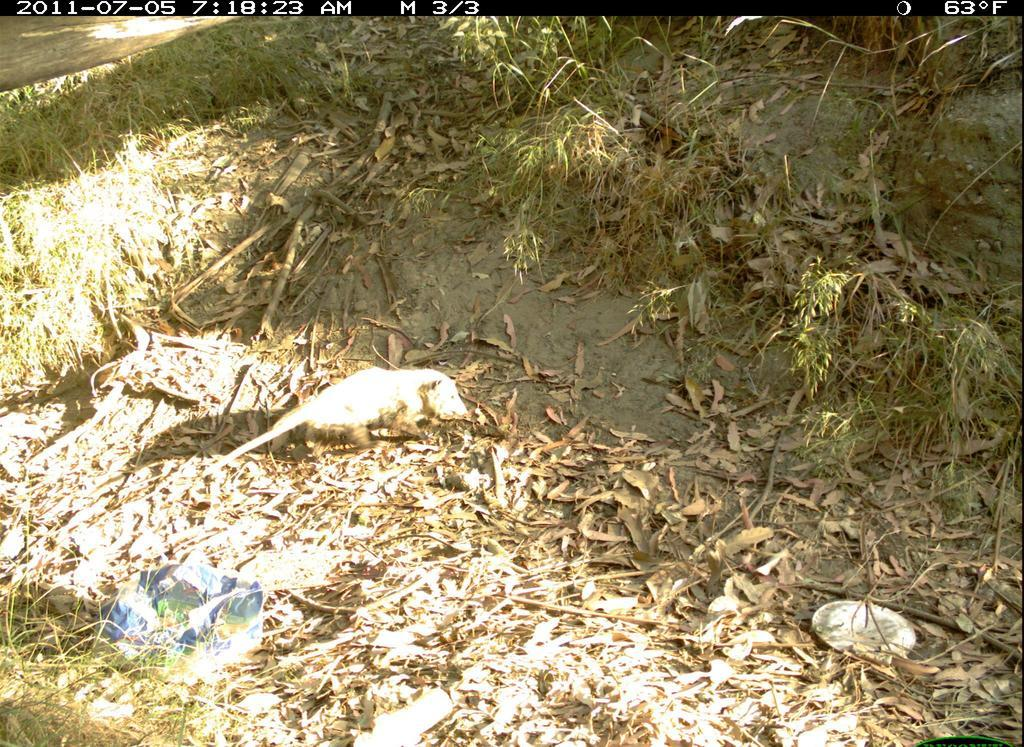opossum: (186, 354, 496, 502)
